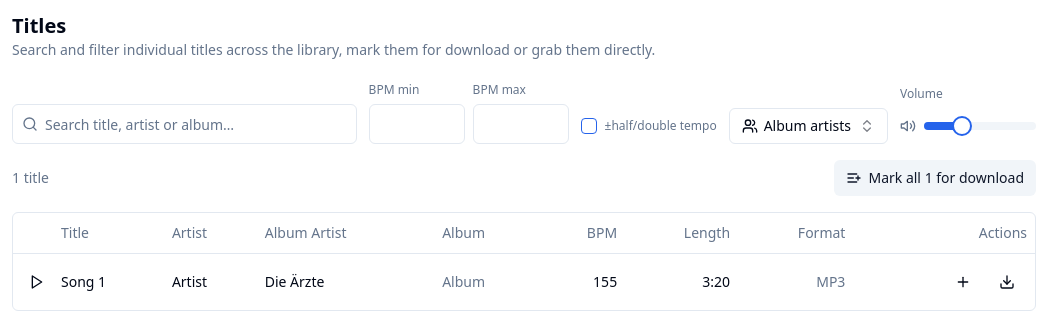
Test: LibraryTitlesPage › marks a title for download and reflects the gathered state
Click the button named "Mark Song 1 for download" at (963, 282), box [943,262,983,302]
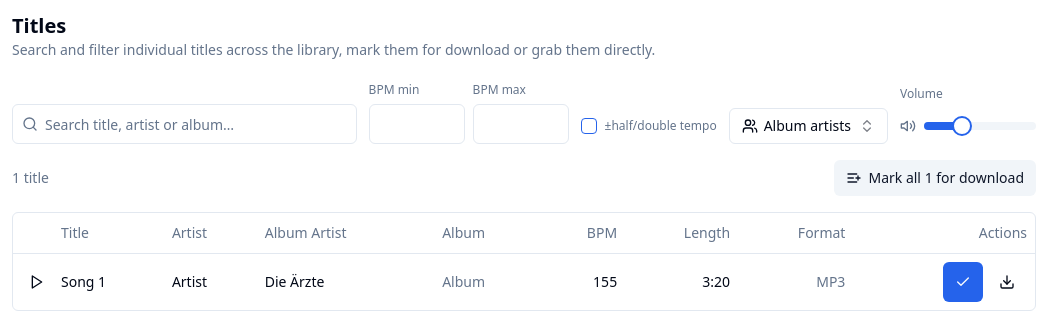
Check: the button named "Remove Song 1 from selection" is shown, box [943,262,983,302]
